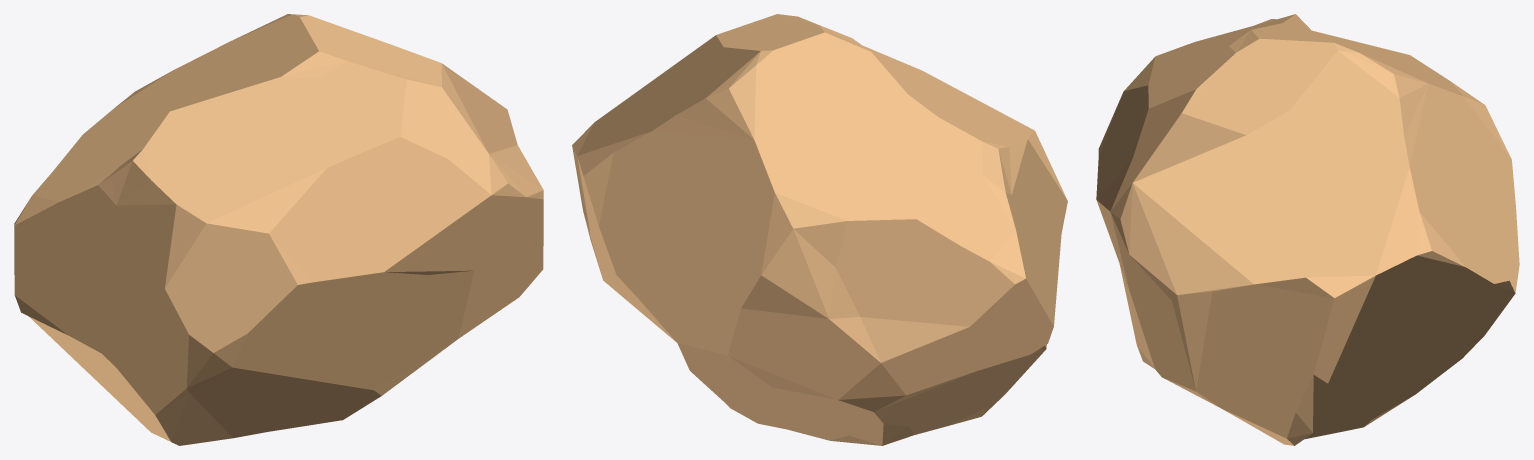
The model's file is Stone.fbx.
The picture shows the model from 3 angles, left to right: view 1: azimuth 30°, elevation 25°; view 2: azimuth 150°, elevation 25°; view 3: azimuth 270°, elevation 25°; orthographic projection. The views are drawn at different scales.
Parts seen in each view (by area): view 1: Cube; view 2: Cube; view 3: Cube.
Part boxes in pixels (x1=…): Cube: x1=14, y1=14, x2=543, y2=445; Cube: x1=572, y1=14, x2=1067, y2=445; Cube: x1=1096, y1=14, x2=1519, y2=445.
Bounding box in the file's own units: 76.05 × 54.75 × 54.72.
